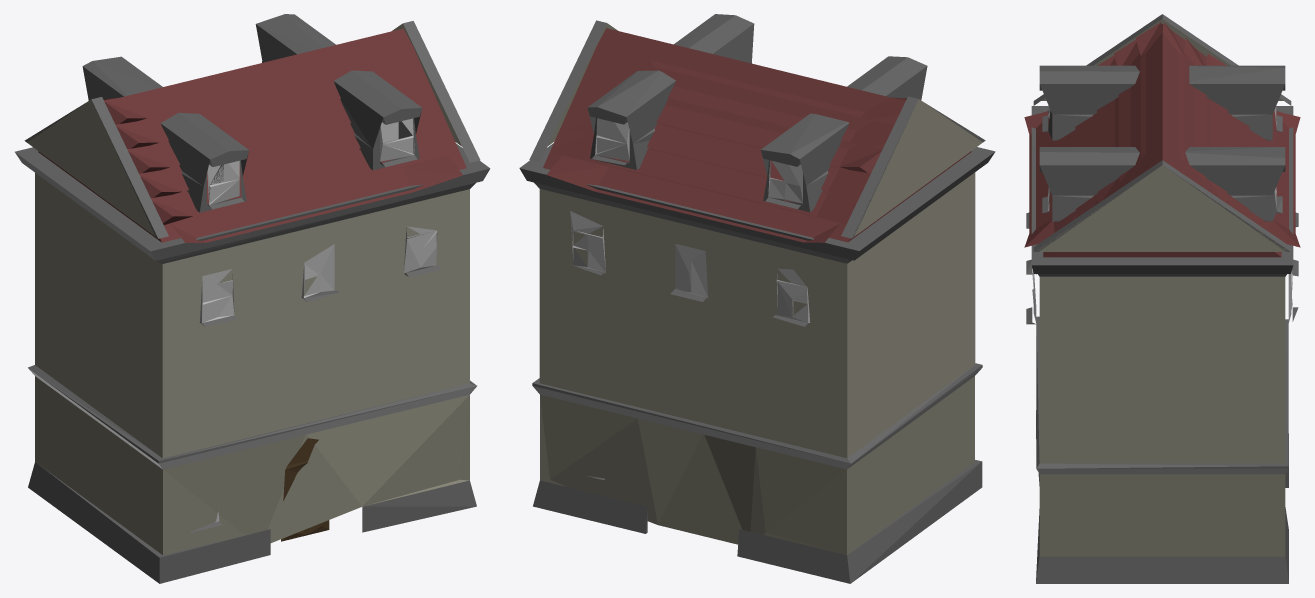
Rendered from Building1_Small_lod.glb.
The picture shows the model from 3 angles, left to right: view 1: azimuth 30°, elevation 25°; view 2: azimuth 150°, elevation 25°; view 3: azimuth 270°, elevation 25°; orthographic projection. The views are drawn at different scales.
Parts seen in each view (by area): view 1: Building1_Small; view 2: Building1_Small; view 3: Building1_Small.
Part boxes in pixels (<box>): Building1_Small: <box>15,14,490,583</box>; Building1_Small: <box>519,14,995,583</box>; Building1_Small: <box>1024,14,1300,583</box>.
Bounding box in the file's own units: 3.75 × 4.61 × 2.74.
